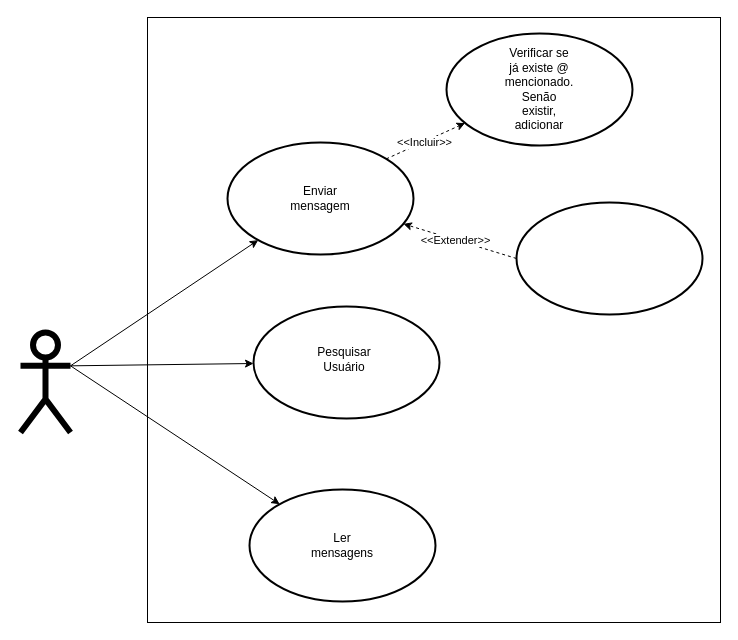
Image size: 738x640. Some labels were removed from this diagram. The shapes that lost their labels are listed below. From the top down, each one's centre as x and y in pixels, then its label:
(609,258): Alertar @ no Twitter
(45,382): Usuário
